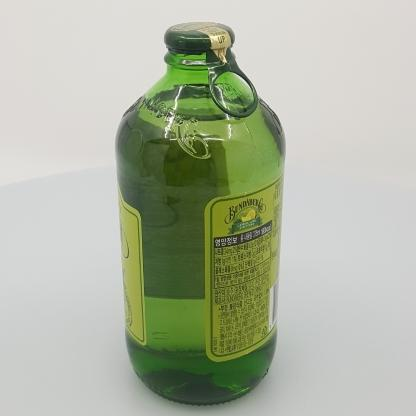------------375ML: (114, 22, 286, 406)
